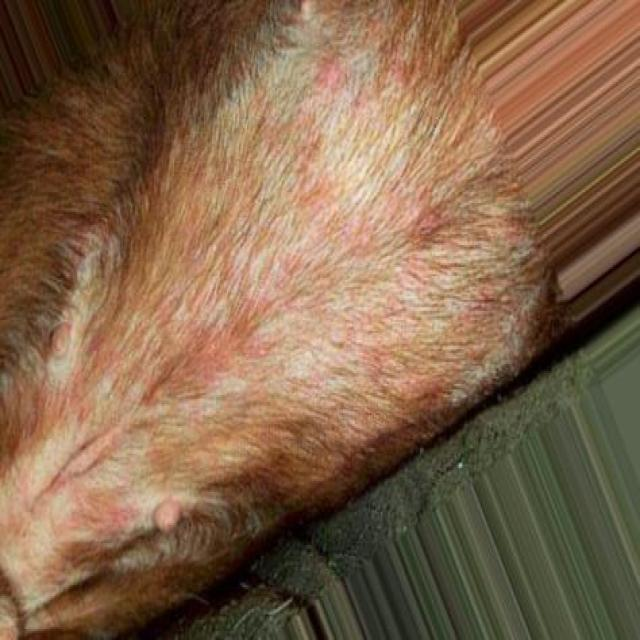di ung bo chet: (0, 114, 488, 424)
